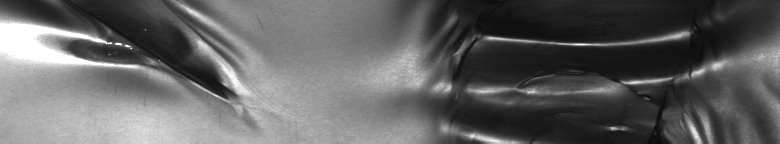ke: (13, 4, 241, 108)
